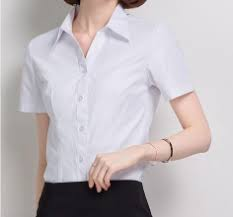F_shirt: (18, 5, 197, 184)
